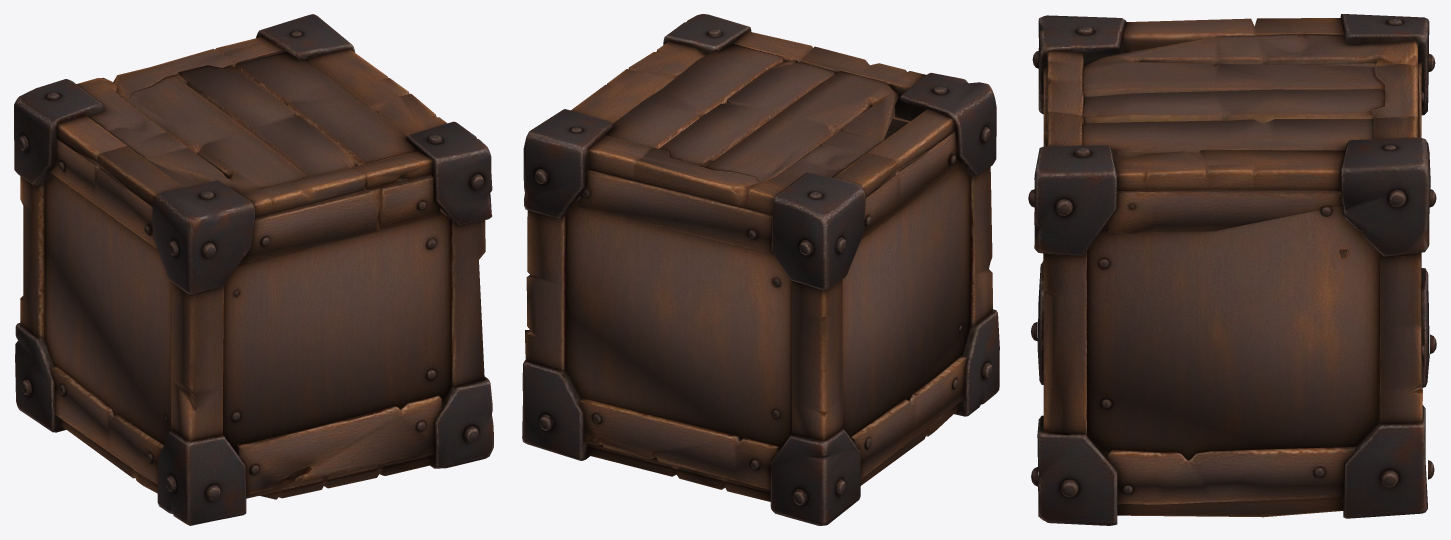
The model's file is prop_crate.glb.
3 views of the same model, side by side, from view 1: azimuth 30°, elevation 25°; view 2: azimuth 150°, elevation 25°; view 3: azimuth 270°, elevation 25° (orthographic). The views are drawn at different scales.
Parts seen in each view (by area): view 1: tripo_node_99121775-1cbd-48bb-8973-0687aca4b320; view 2: tripo_node_99121775-1cbd-48bb-8973-0687aca4b320; view 3: tripo_node_99121775-1cbd-48bb-8973-0687aca4b320.
Part boxes in pixels (x1,y1,x2,y2): tripo_node_99121775-1cbd-48bb-8973-0687aca4b320: (14, 14, 493, 525); tripo_node_99121775-1cbd-48bb-8973-0687aca4b320: (522, 14, 999, 525); tripo_node_99121775-1cbd-48bb-8973-0687aca4b320: (1028, 14, 1436, 525).
Bounding box in the file's own units: 0.9995 × 0.979 × 0.9995.
1 material, 1 textured.
